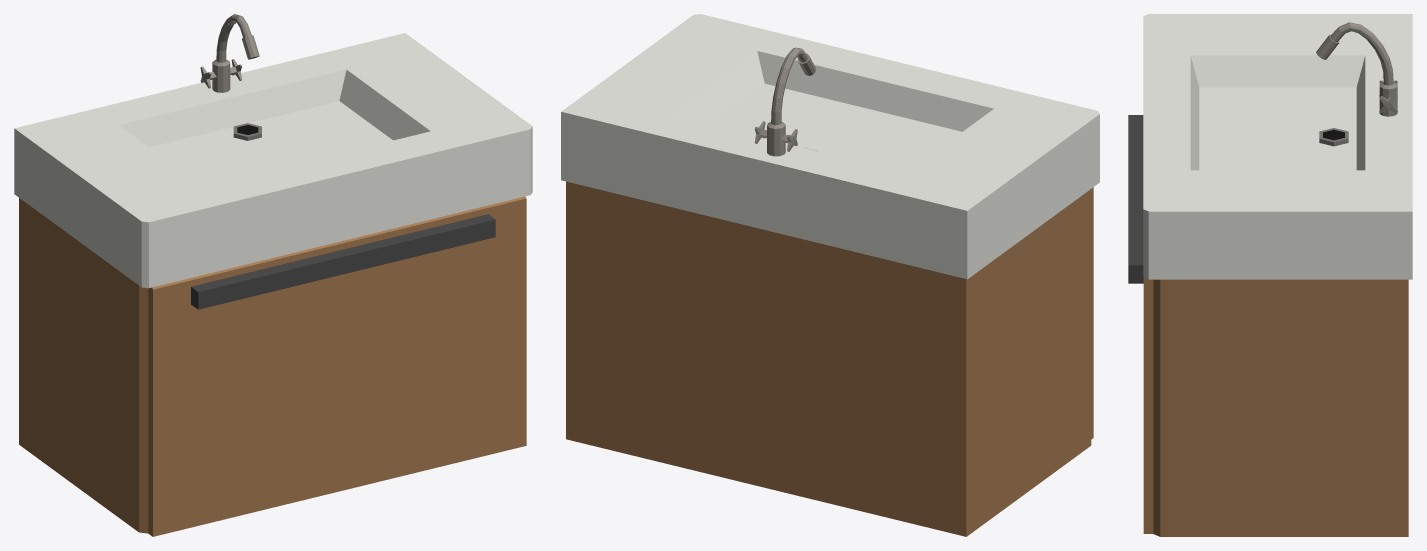
File: Wash_Basin.fbx
3 renders of one model, left to right at view 1: azimuth 30°, elevation 25°; view 2: azimuth 150°, elevation 25°; view 3: azimuth 270°, elevation 25°, orthographic. The views are drawn at different scales.
Parts seen in each view (by area): view 1: polySurface2201; view 2: polySurface2201; view 3: polySurface2201.
Part boxes in pixels (x1=…): polySurface2201: x1=14, y1=14, x2=532, y2=536; polySurface2201: x1=561, y1=14, x2=1099, y2=536; polySurface2201: x1=1128, y1=14, x2=1412, y2=536.
Size of the model in its own units: 1.74 by 1.71 by 1.06.
1 material, 1 textured.
